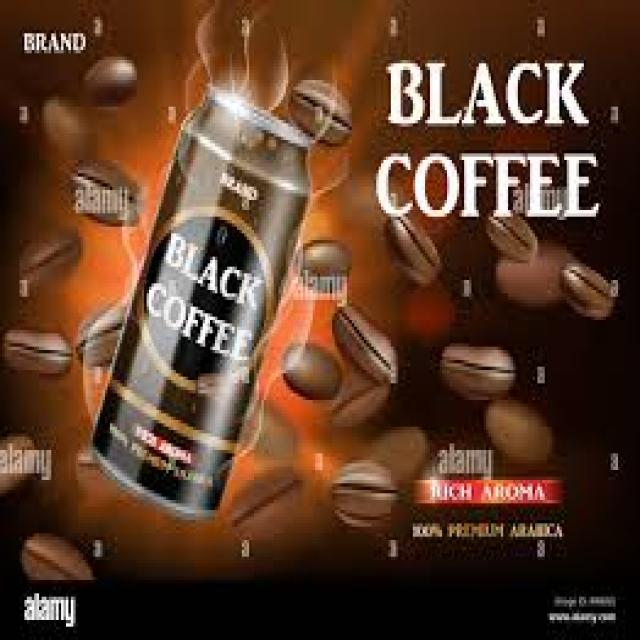Cans: (88, 83, 317, 537)
